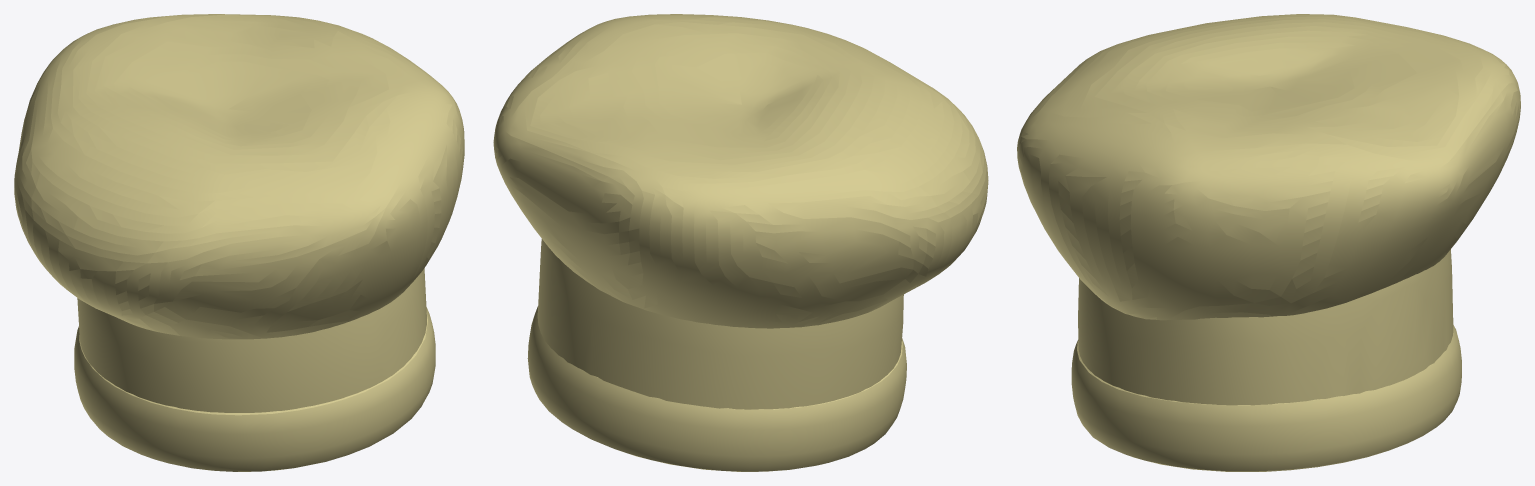
The model's file is chef.glb.
3 views of the same model, side by side, from view 1: azimuth 30°, elevation 25°; view 2: azimuth 150°, elevation 25°; view 3: azimuth 270°, elevation 25° (orthographic). The views are drawn at different scales.
Parts seen in each view (by area): view 1: headwear-chef; view 2: headwear-chef; view 3: headwear-chef.
Part boxes in pixels (x1=…): headwear-chef: x1=14, y1=14, x2=464, y2=471; headwear-chef: x1=493, y1=14, x2=988, y2=471; headwear-chef: x1=1017, y1=14, x2=1520, y2=471.
Bounding box in the file's own units: 0.7178 × 0.5525 × 0.7318.
